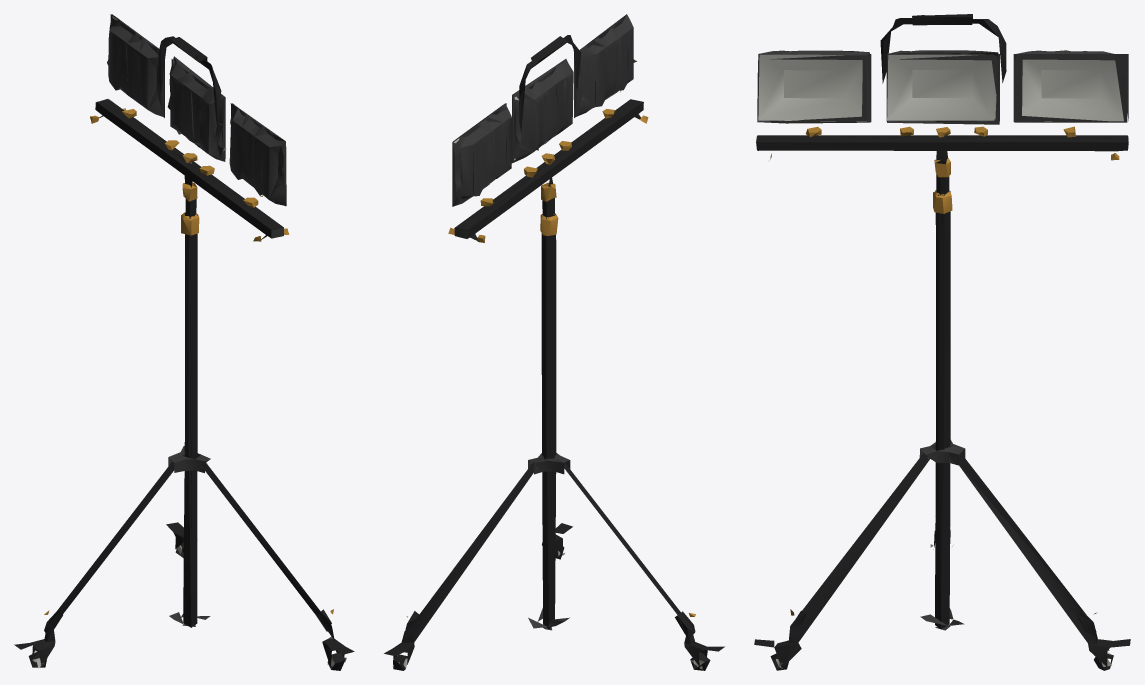
The model's file is simready-light-work-tripod.lite.660fd278.glb.
3 views of the same model, side by side, from view 1: azimuth 30°, elevation 25°; view 2: azimuth 150°, elevation 25°; view 3: azimuth 270°, elevation 25° (orthographic). The views are drawn at different scales.
Visible parts, largest first — view 1: model; view 2: model; view 3: model.
Boxes of the visible parts, x1,y1,x2,y2 form: model: [14, 14, 354, 670]; model: [384, 14, 724, 670]; model: [754, 14, 1130, 670].
Size of the model in its own units: 0.5583 by 1.23 by 0.6809.
Materials: 8 (6 with a texture image).
